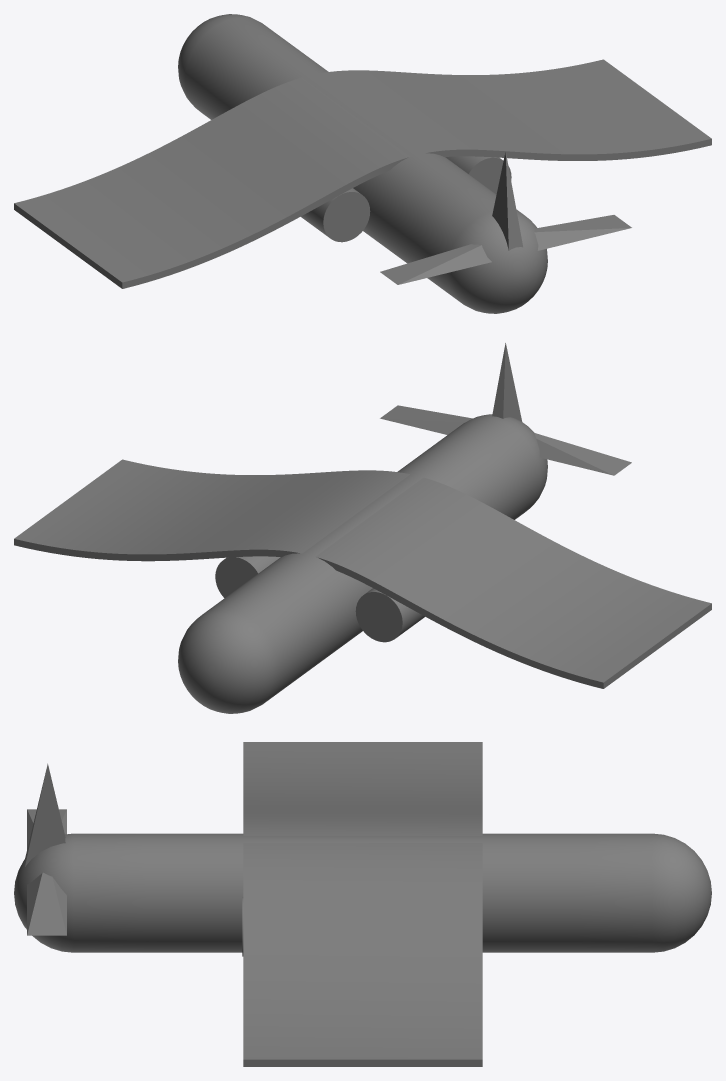
The model's file is God.fbx.
3 views of the same model, one above another, from view 1: azimuth 30°, elevation 25°; view 2: azimuth 150°, elevation 25°; view 3: azimuth 270°, elevation 25° (orthographic). The views are drawn at different scales.
Parts seen in each view (by area): view 1: root; view 2: root; view 3: root.
Boxes of the visible parts, x1,y1,x2,y2 form: root: (14,14,711,313); root: (14,343,711,713); root: (14,742,711,1066).
Bounding box in the file's own units: 377 × 102 × 350.
1 material, 1 textured.
